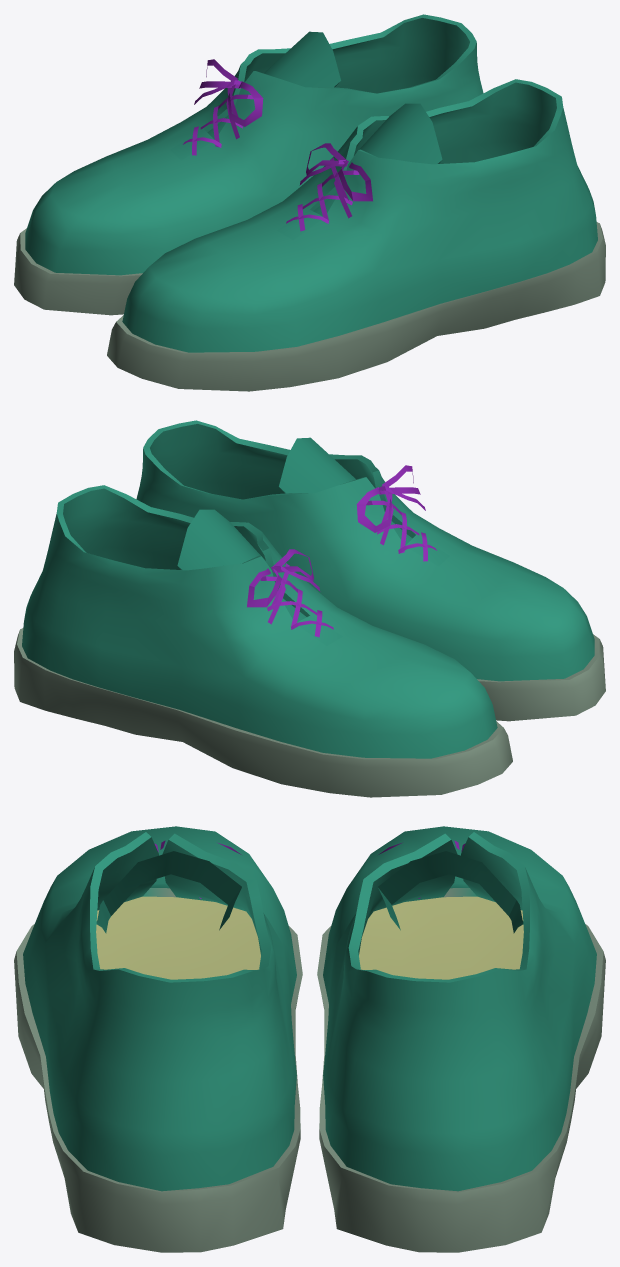
The picture shows the model from 3 angles, top to bottom: view 1: azimuth 30°, elevation 25°; view 2: azimuth 150°, elevation 25°; view 3: azimuth 270°, elevation 25°; orthographic projection. The views are drawn at different scales.
Visible parts, largest first — view 1: ppe_boots; view 2: ppe_boots; view 3: ppe_boots.
Part boxes in pixels (bbox=[...]): ppe_boots: bbox=[14, 14, 605, 391]; ppe_boots: bbox=[14, 420, 605, 797]; ppe_boots: bbox=[14, 826, 605, 1252].
Bounding box in the file's own units: 0.3283 × 0.1345 × 0.2521.
